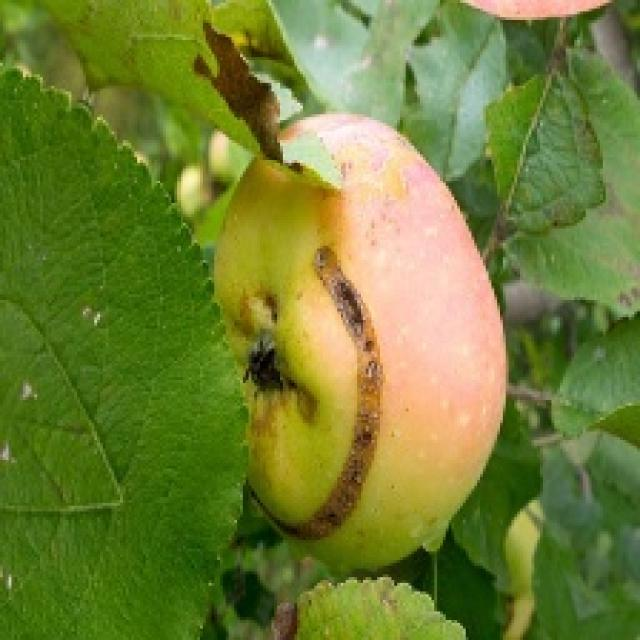rotten_apple: (219, 116, 500, 560)
